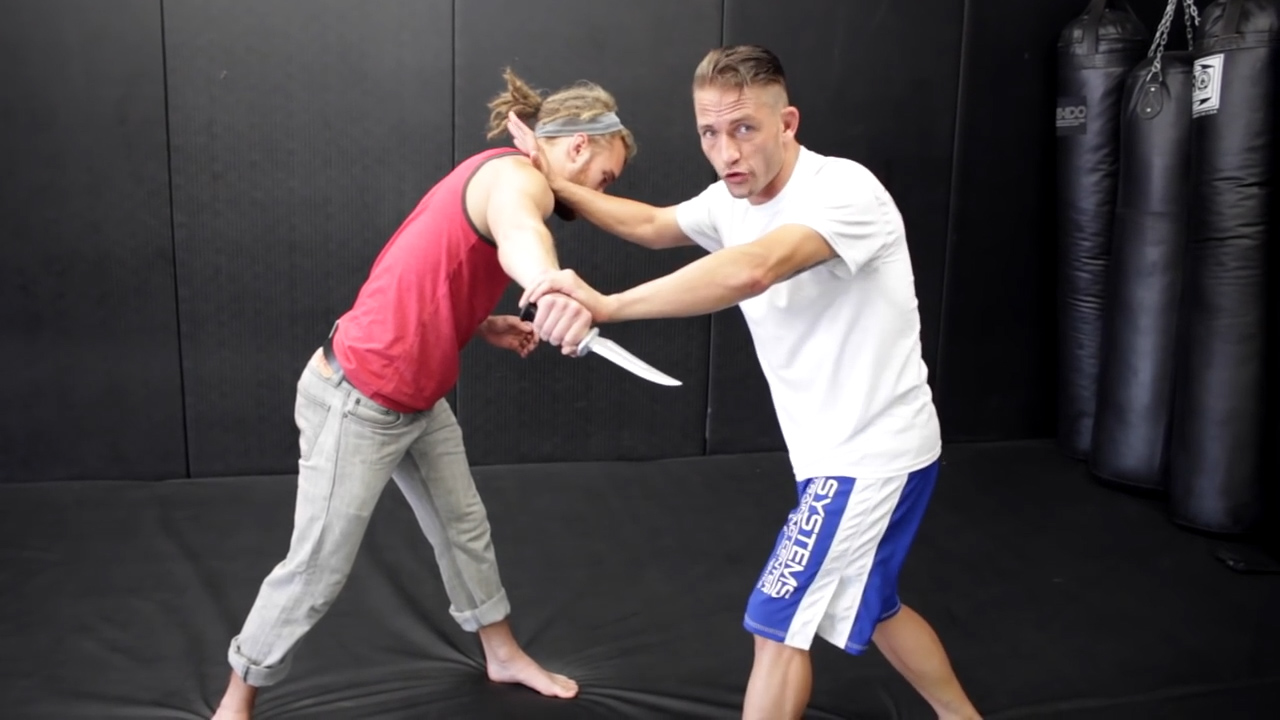knife: (511, 294, 693, 398)
